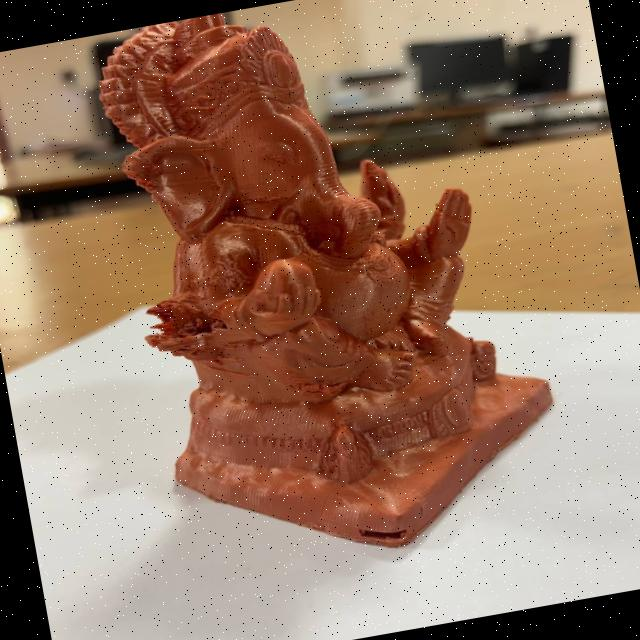cracks: (141, 284, 238, 362), (341, 507, 418, 558)
